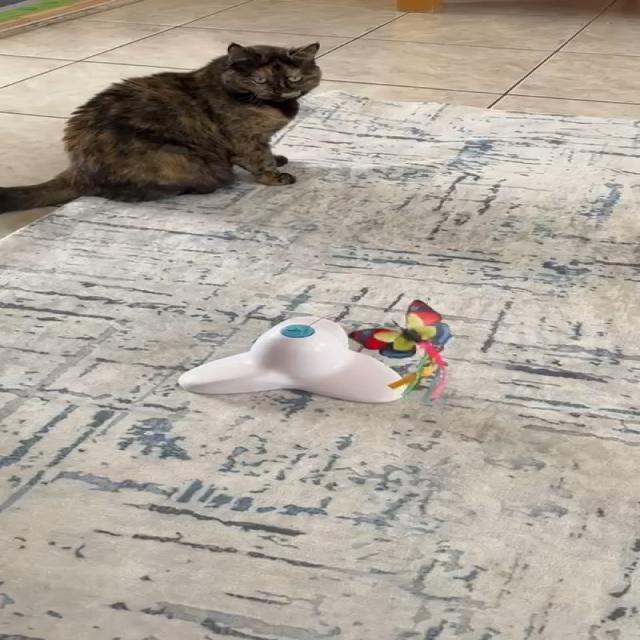authorized: (0, 39, 321, 214)
